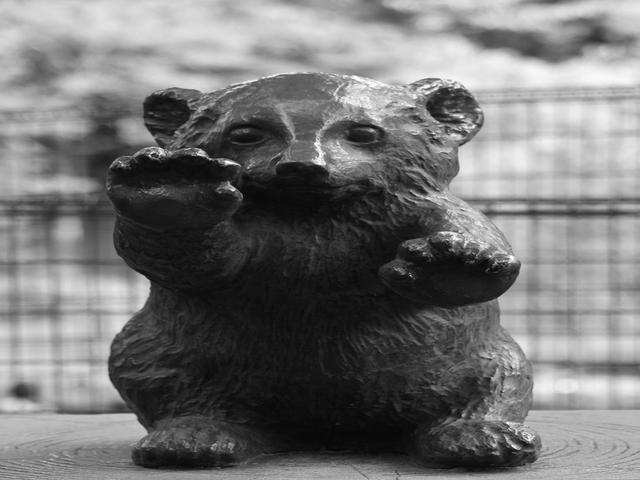bear: (83, 53, 544, 480)
